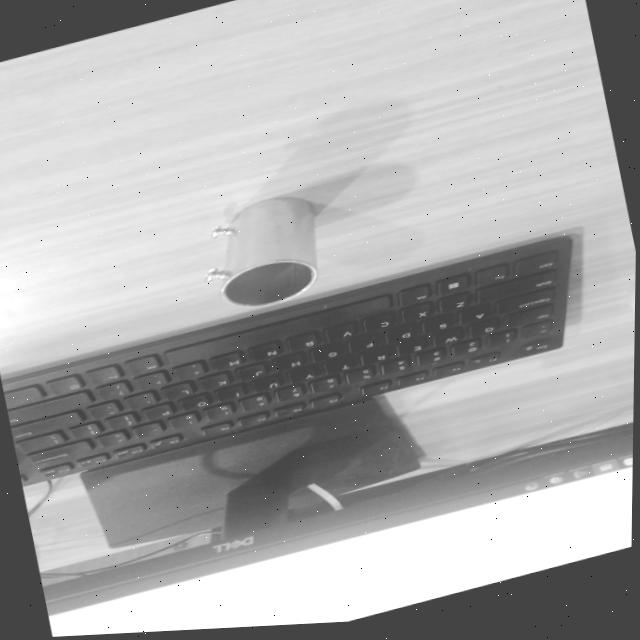Co_Lon: (202, 195, 317, 307)
